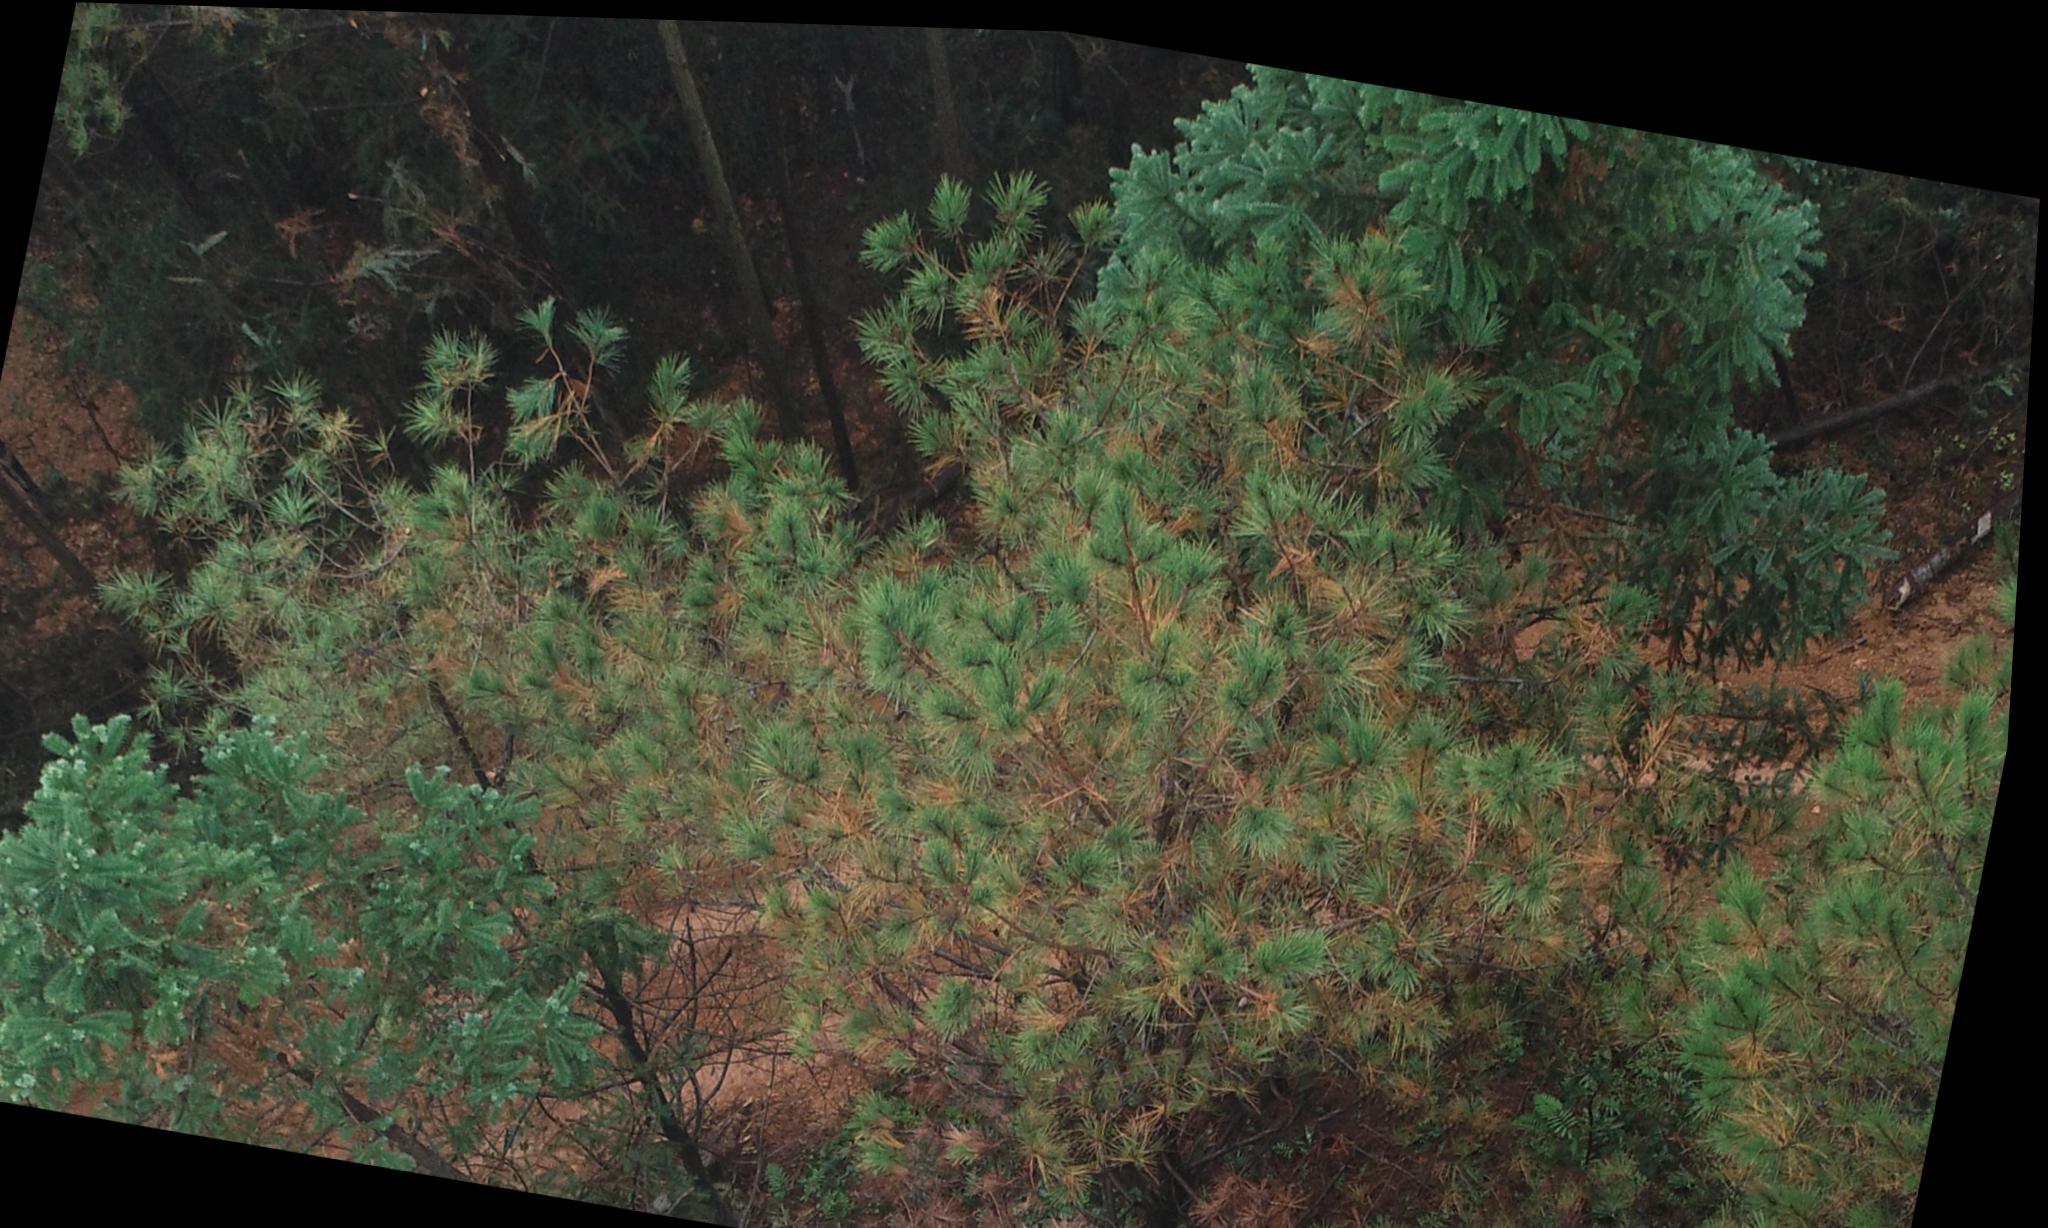light: (310, 174, 1684, 1228), (1647, 667, 2009, 1213)
